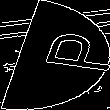P_W: (8, 31, 102, 79)
